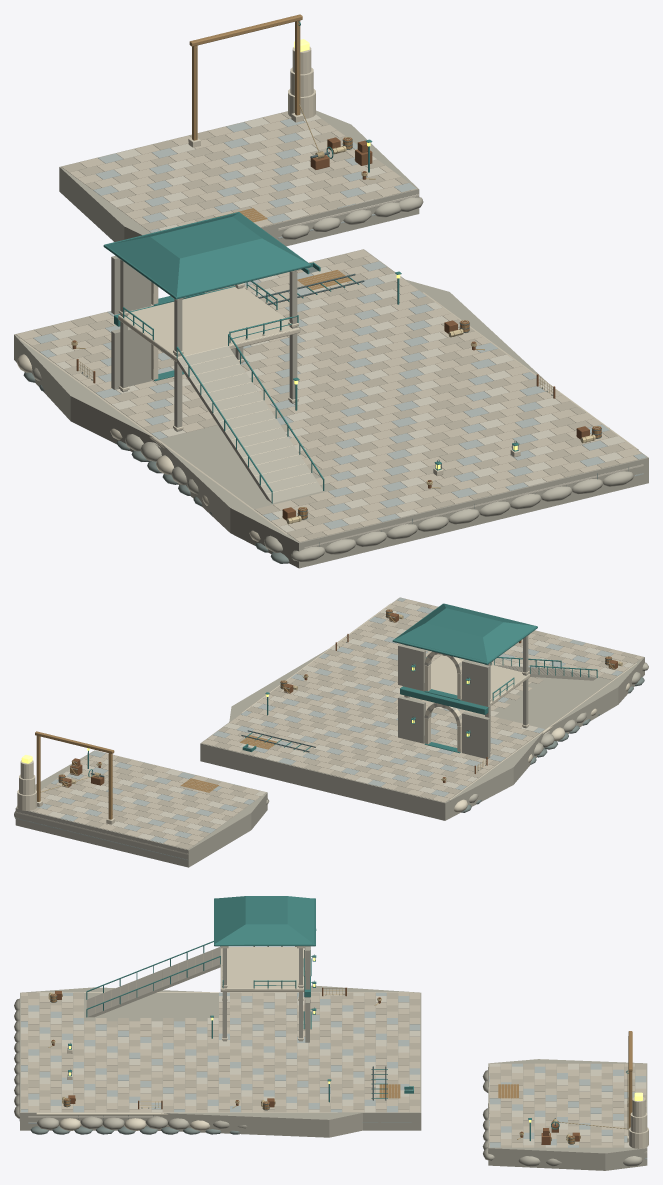
File: moonbay-static-v1.glb
The picture shows the model from 3 angles, top to bottom: view 1: azimuth 30°, elevation 25°; view 2: azimuth 150°, elevation 25°; view 3: azimuth 270°, elevation 25°; orthographic projection. The views are drawn at different scales.
Visible parts, largest first — view 1: MB_stone_geometry, MB_limestone_warm_geometry, MB_paver_geometry, MB_limestone_cream_geometry, MB_limestone_cool_geometry, MB_copper_geometry, MB_trim_geometry, MB_woodlight_geometry, MB_wood_geometry, MB_groove_geometry, MB_rope_geometry; view 2: MB_stone_geometry, MB_limestone_warm_geometry, MB_paver_geometry, MB_limestone_cream_geometry, MB_limestone_cool_geometry, MB_copper_geometry, MB_trim_geometry, MB_woodlight_geometry, MB_wood_geometry, MB_groove_geometry, MB_iron_geometry; view 3: MB_limestone_warm_geometry, MB_stone_geometry, MB_paver_geometry, MB_limestone_cream_geometry, MB_limestone_cool_geometry, MB_copper_geometry, MB_trim_geometry, MB_woodlight_geometry, MB_groove_geometry, MB_wood_geometry, MB_rope_geometry.
Part boxes in pixels (left/top/right/bottom): MB_stone_geometry: left=14, top=110, right=648, bottom=568; MB_limestone_warm_geometry: left=16, top=113, right=641, bottom=542; MB_paver_geometry: left=32, top=111, right=624, bottom=539; MB_limestone_cream_geometry: left=49, top=114, right=643, bottom=548; MB_limestone_cool_geometry: left=33, top=118, right=646, bottom=529; MB_copper_geometry: left=103, top=21, right=519, bottom=503; MB_trim_geometry: left=17, top=47, right=638, bottom=541; MB_woodlight_geometry: left=189, top=14, right=601, bottom=519; MB_wood_geometry: left=72, top=137, right=601, bottom=520; MB_groove_geometry: left=23, top=267, right=628, bottom=563; MB_rope_geometry: left=71, top=22, right=599, bottom=523; MB_stone_geometry: left=14, top=597, right=648, bottom=867; MB_limestone_warm_geometry: left=17, top=599, right=643, bottom=846; MB_paver_geometry: left=29, top=602, right=639, bottom=849; MB_limestone_cream_geometry: left=15, top=603, right=633, bottom=854; MB_limestone_cool_geometry: left=15, top=597, right=622, bottom=860; MB_copper_geometry: left=87, top=603, right=597, bottom=777; MB_trim_geometry: left=17, top=603, right=636, bottom=824; MB_woodlight_geometry: left=35, top=609, right=614, bottom=819; MB_wood_geometry: left=58, top=609, right=617, bottom=787; MB_groove_geometry: left=247, top=677, right=644, bottom=812; MB_iron_geometry: left=58, top=611, right=611, bottom=783; MB_limestone_warm_geometry: left=21, top=992, right=646, bottom=1147; MB_stone_geometry: left=14, top=946, right=647, bottom=1170; MB_paver_geometry: left=21, top=992, right=646, bottom=1147; MB_limestone_cream_geometry: left=19, top=992, right=647, bottom=1153; MB_limestone_cool_geometry: left=19, top=992, right=647, bottom=1159; MB_copper_geometry: left=68, top=896, right=628, bottom=1140; MB_trim_geometry: left=28, top=946, right=648, bottom=1148; MB_woodlight_geometry: left=50, top=992, right=632, bottom=1144; MB_groove_geometry: left=30, top=1089, right=412, bottom=1134; MB_wood_geometry: left=51, top=987, right=579, bottom=1144; MB_rope_geometry: left=48, top=988, right=628, bottom=1139.
Bounding box in the file's own units: 47.5 × 17.22 × 75.9.
